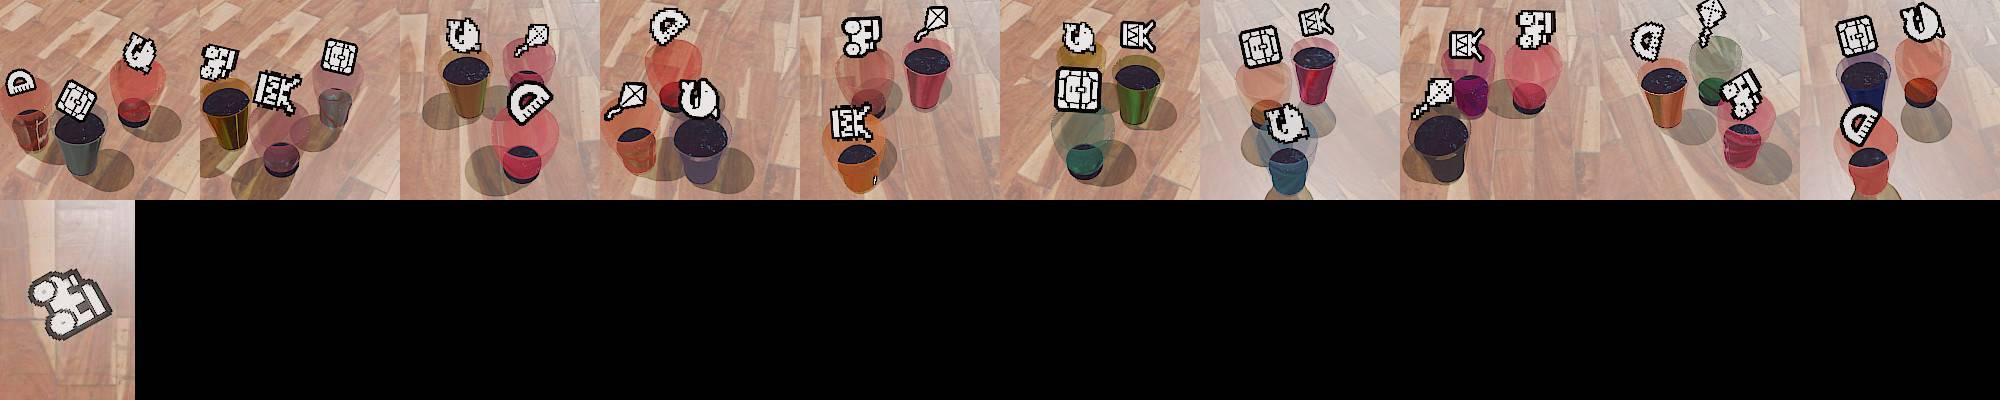icon: (27, 268, 115, 341), (1718, 66, 1765, 121), (251, 70, 301, 117), (506, 79, 555, 126), (1054, 66, 1101, 113), (675, 75, 721, 120), (825, 102, 875, 143), (1411, 74, 1455, 118), (1264, 101, 1310, 144), (1239, 25, 1283, 69), (1835, 15, 1879, 60), (54, 79, 98, 122), (1839, 102, 1883, 146), (841, 15, 883, 60), (1898, 3, 1944, 43), (1514, 9, 1556, 51), (649, 6, 693, 47), (605, 80, 648, 120), (1630, 20, 1667, 64), (122, 31, 158, 75), (1695, 0, 1727, 48), (320, 37, 358, 76), (444, 17, 482, 55), (200, 42, 237, 80), (913, 5, 950, 42), (1297, 3, 1335, 38), (1060, 19, 1096, 56), (513, 23, 551, 57), (1448, 27, 1486, 61), (1120, 18, 1157, 52), (4, 68, 38, 97), (1409, 106, 1422, 120)
